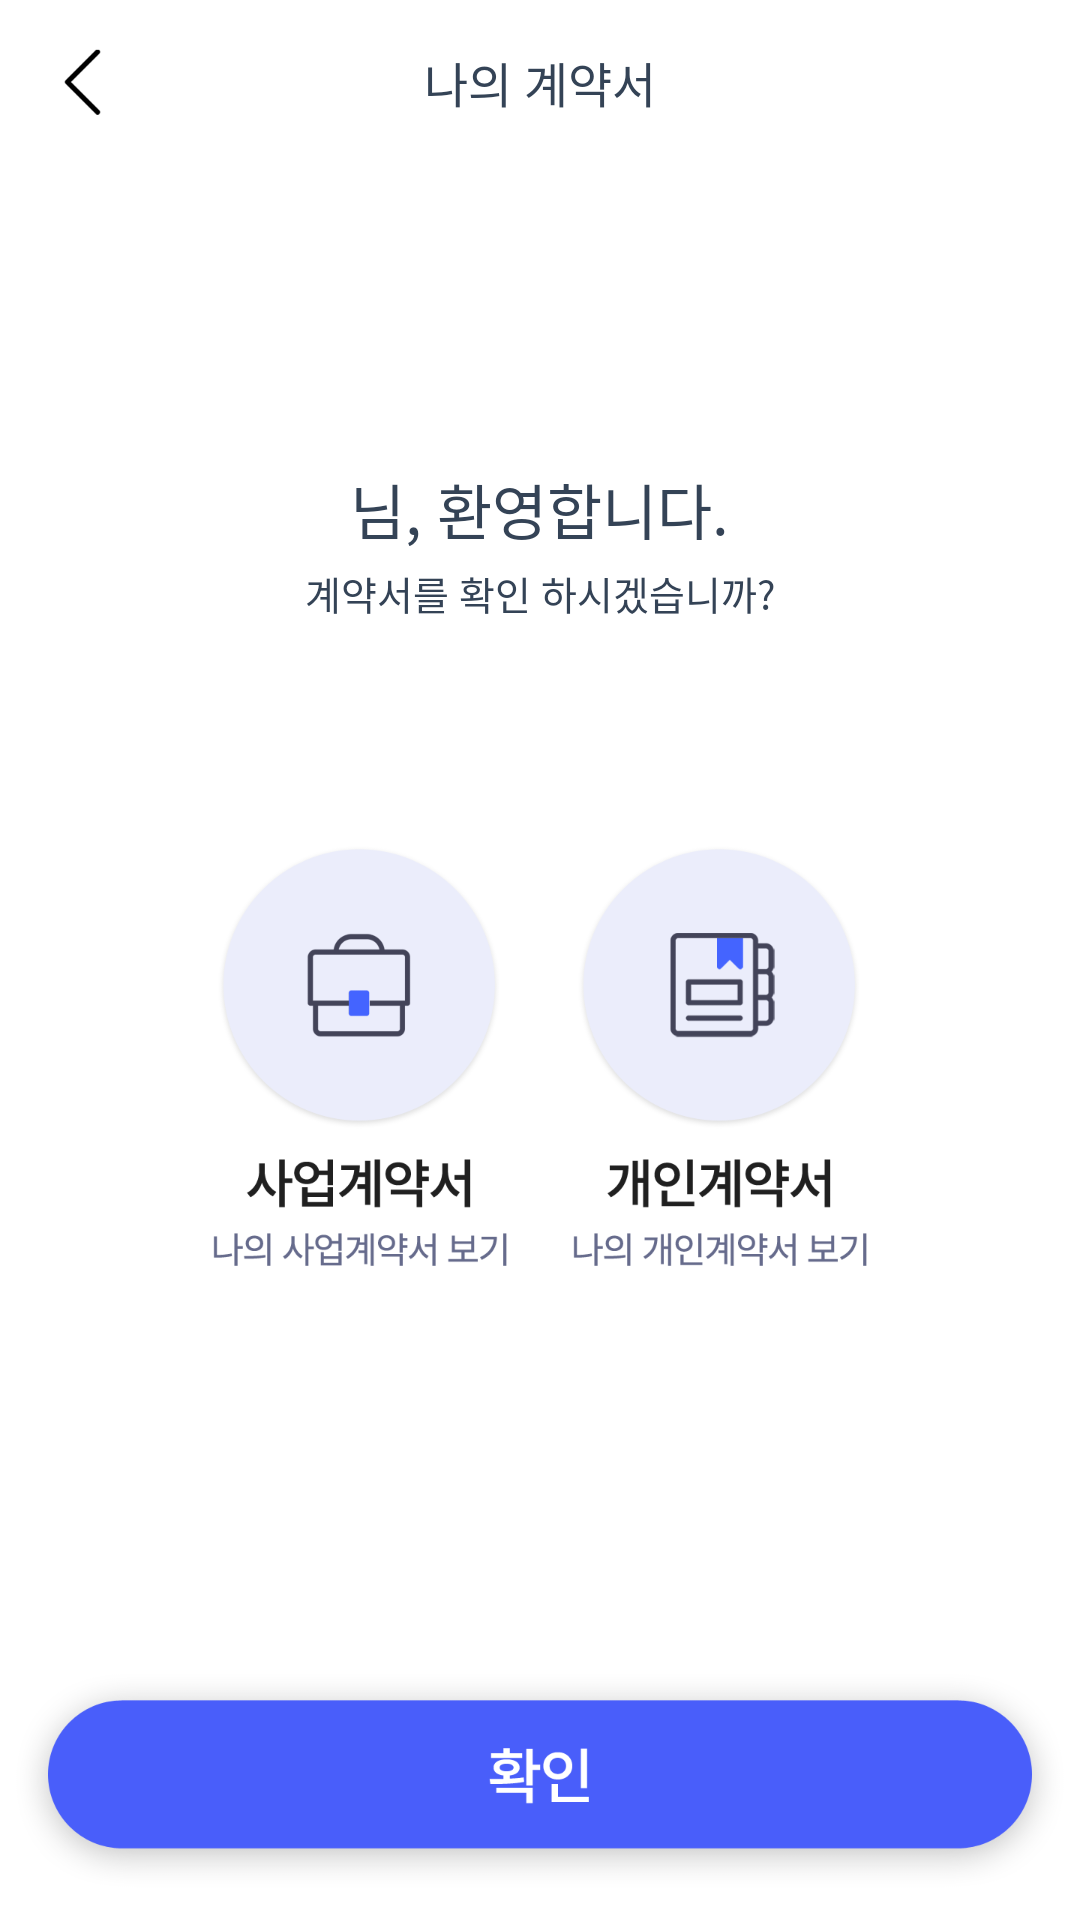

Named icons in this screenshot (1080 × 1920) and their bounding boxes, [x1, y1, x2, y2]:
top back: [64, 49, 101, 115]
